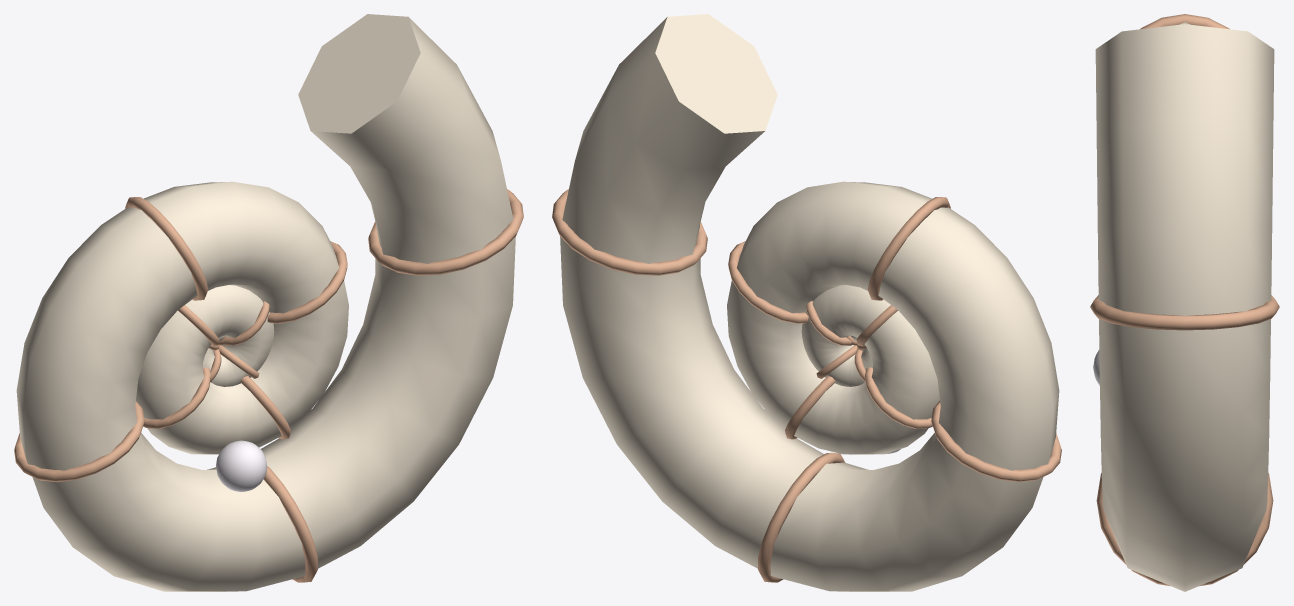
The model's file is E30_Ammonite_Shell.glb.
3 renders of one model, left to right at view 1: azimuth 30°, elevation 25°; view 2: azimuth 150°, elevation 25°; view 3: azimuth 270°, elevation 25°, orthographic. The views are drawn at different scales.
Parts seen in each view (by area): view 1: E30_Ammonite_Shell_Mesh; view 2: E30_Ammonite_Shell_Mesh; view 3: E30_Ammonite_Shell_Mesh.
Part boxes in pixels (x1,y1,x2,y2): E30_Ammonite_Shell_Mesh: (14, 14, 523, 591); E30_Ammonite_Shell_Mesh: (552, 14, 1061, 591); E30_Ammonite_Shell_Mesh: (1090, 14, 1279, 591).
Size of the model in its own units: 6.57 by 6.82 by 1.86.
